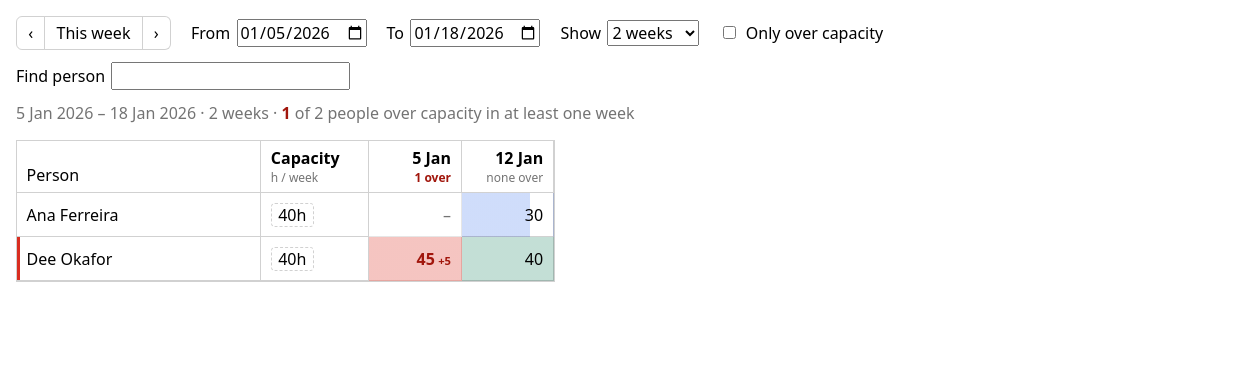
Test: keeps the grid honest through a failed save and a successful retry
expect the column heading "5 Jan 1 over" is shown: met, box [369,141,462,193]
expect the text "+5" is shown: met, box [438,253,451,268]
Click the button named "Weekly hours for Dee Okafor": (292, 259) [271,247,314,271]
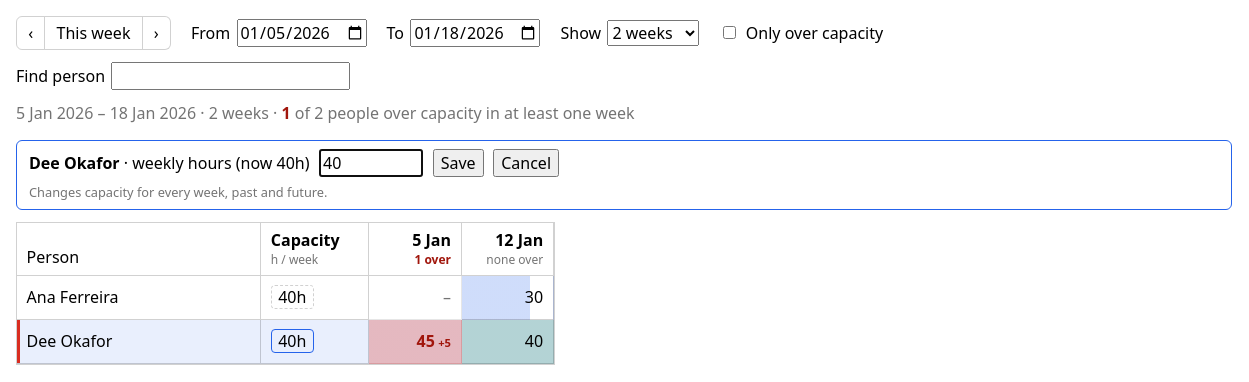
Replace the text in the field named "Weekly hours for Dee Okafor" with "50": (371, 163) [319,149,423,177]
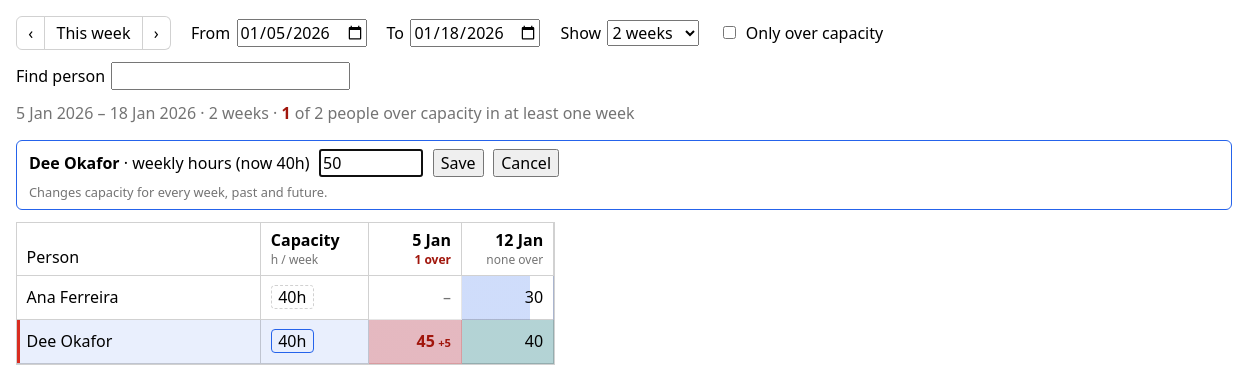
Click the button "Save": (458, 163) [433,149,484,177]
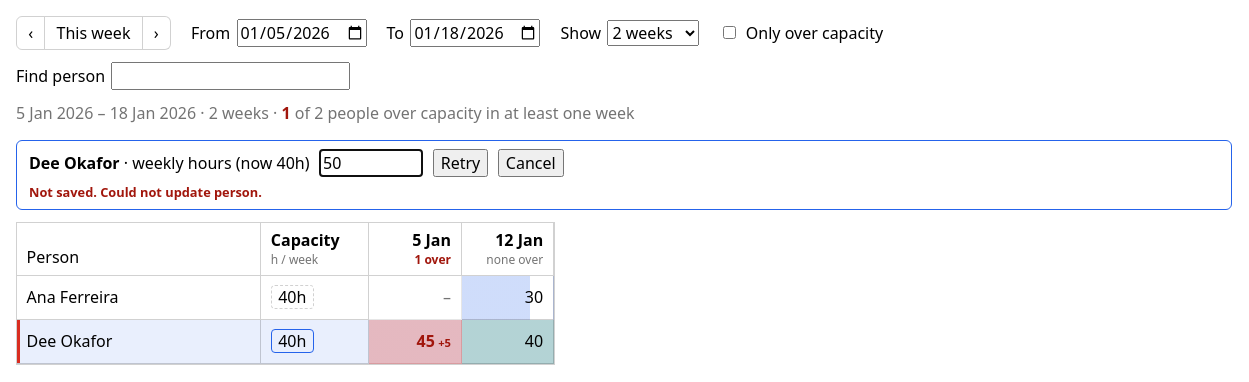
expect the text "+5" is shown: met, box [438,335,451,350]
expect the message shows "Could not update person": met, box [29,183,262,201]
Click the button "Retry": (460, 163) [433,149,488,177]
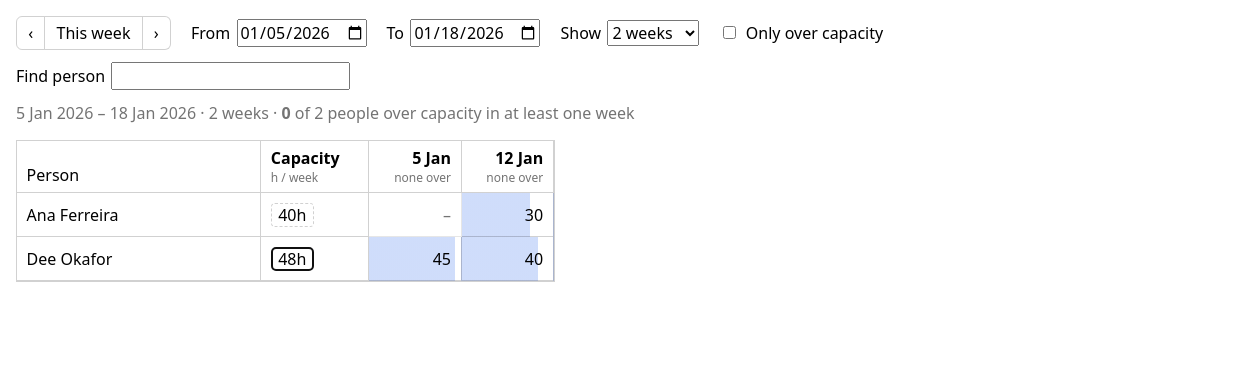
expect the button named "Weekly hours" reads "48h": met, box [271,247,314,271]
expect the text "+5" is gone: met
expect the column heading "5 Jan none over" is shown: met, box [369,141,462,193]
